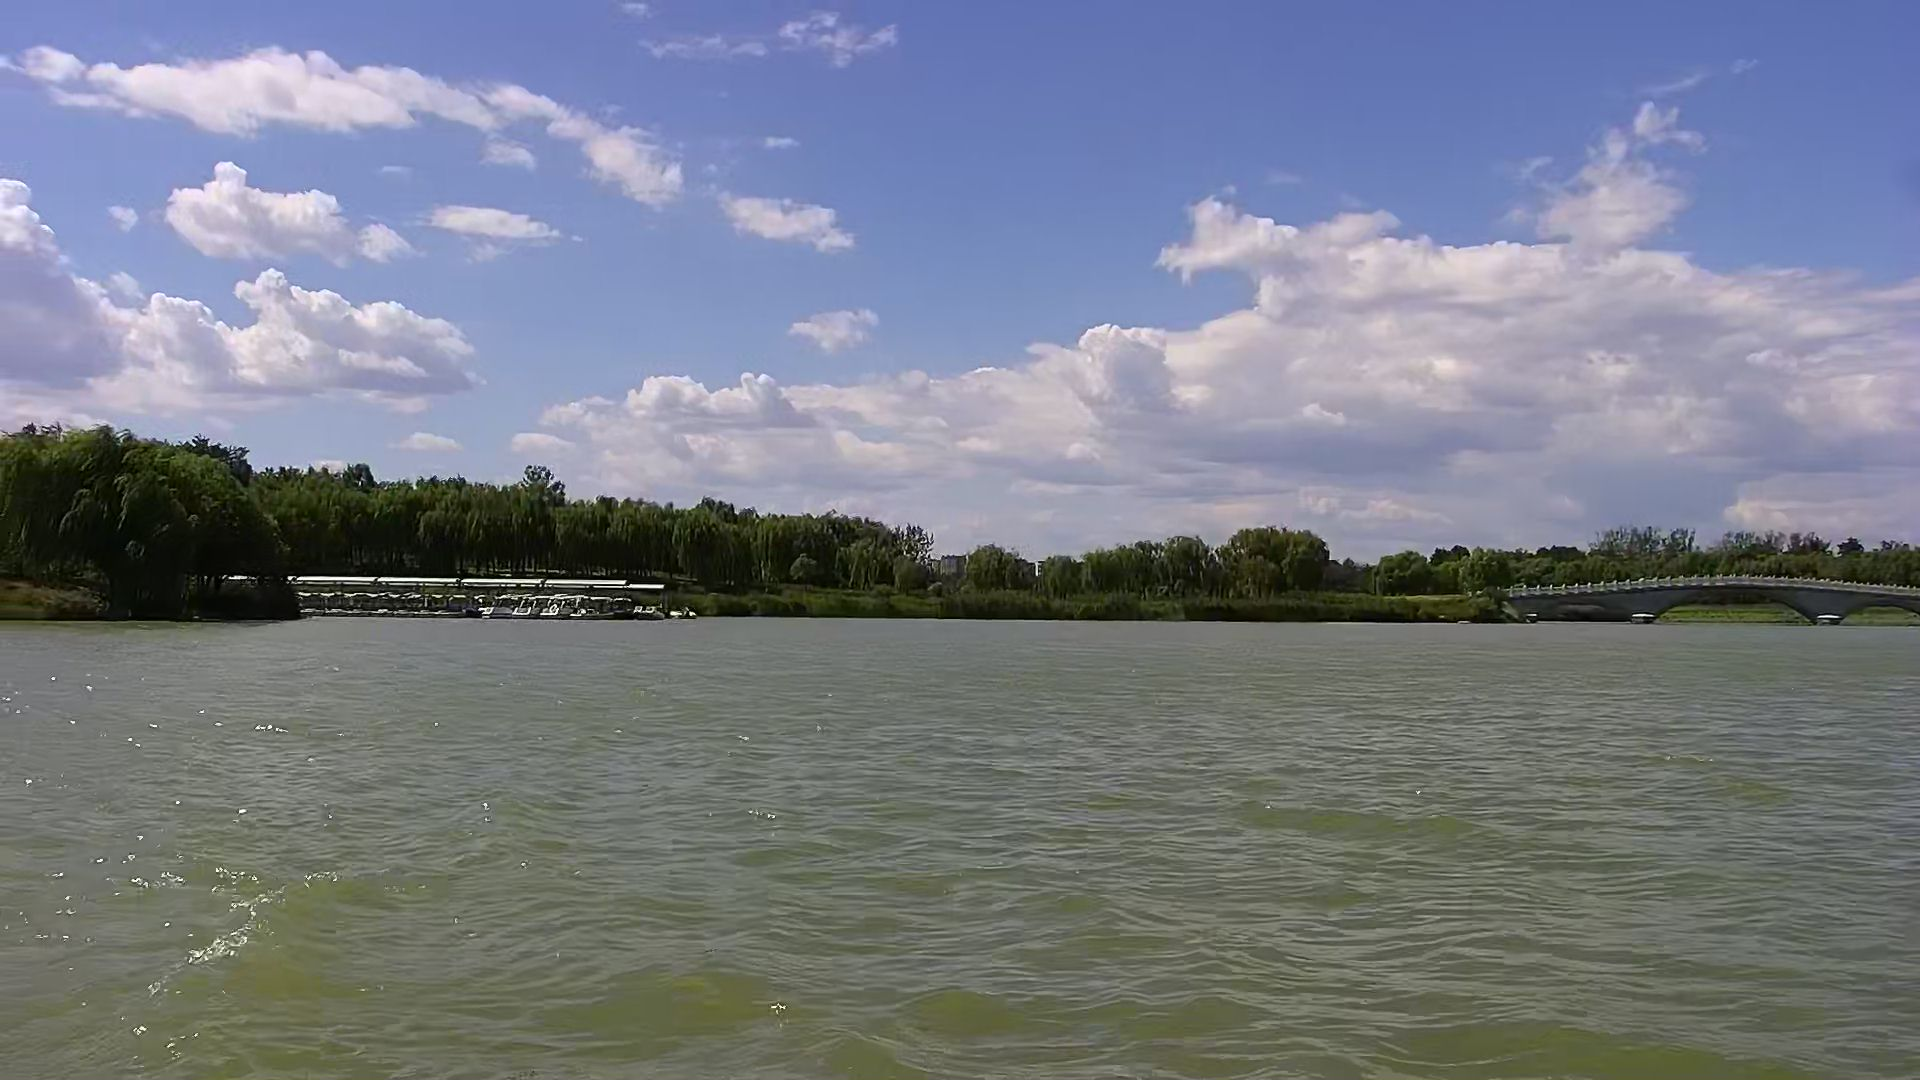bridge: (1511, 571, 1920, 625)
harbor: (290, 574, 694, 622)
